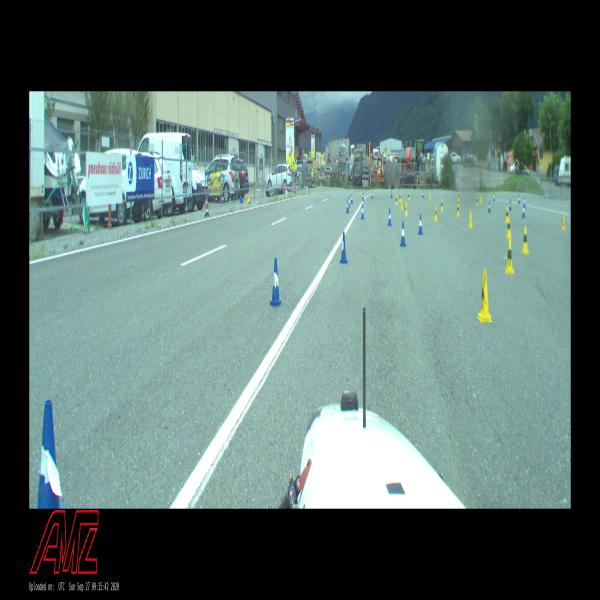blue_cone: (38, 400, 66, 508), (269, 258, 283, 306), (340, 232, 348, 264), (400, 221, 406, 247), (418, 214, 423, 235), (387, 208, 392, 226), (360, 204, 364, 219), (522, 205, 526, 218), (346, 200, 350, 213), (488, 201, 491, 213), (348, 196, 351, 208), (509, 199, 512, 211), (518, 195, 521, 204), (524, 197, 526, 208), (351, 193, 353, 204), (493, 192, 495, 202), (371, 190, 373, 199), (362, 192, 364, 201), (422, 190, 424, 198), (390, 190, 392, 198)
unknown_cone: (204, 189, 210, 217)
yellow_cone: (478, 270, 492, 322), (505, 239, 514, 274), (521, 226, 529, 254), (506, 217, 512, 238), (560, 212, 566, 230), (468, 210, 473, 228), (434, 206, 438, 221), (404, 202, 408, 216), (456, 203, 460, 216), (505, 207, 508, 223), (441, 199, 444, 211), (400, 198, 403, 210), (395, 195, 398, 205), (479, 194, 482, 203), (407, 192, 410, 200), (476, 195, 478, 206), (458, 198, 460, 208), (399, 193, 401, 202), (458, 192, 460, 201), (429, 192, 431, 200)
